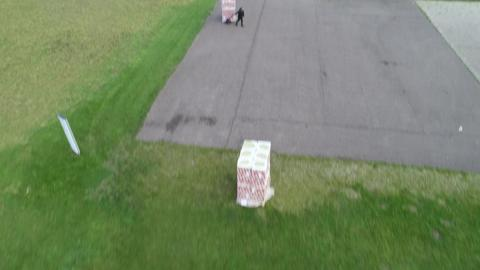RockwoolPallet: (222, 1, 237, 25)
